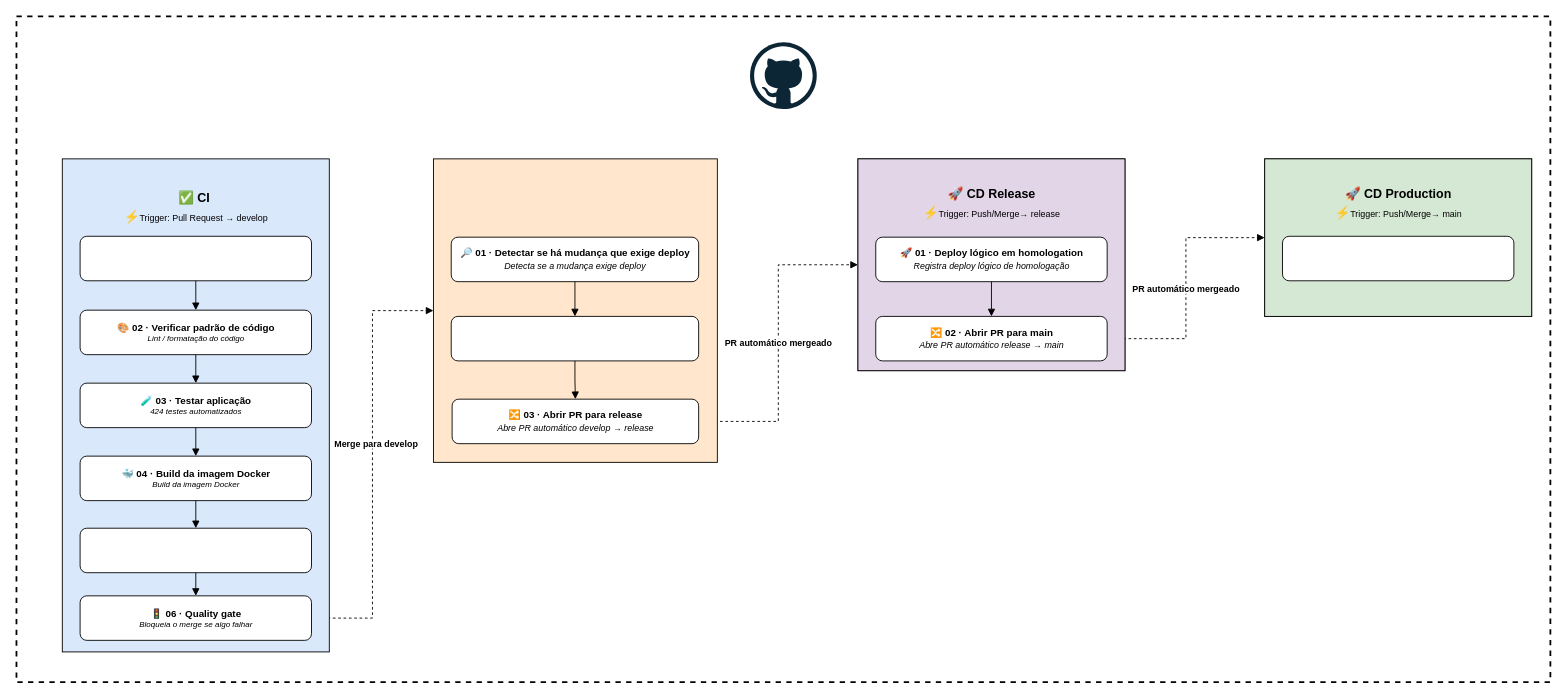
Image size: 1566x698. Some labels were removed from this diagram. The box of each missing label's shape, as (x1, y1, x2, y2) in pixels:
Esteiras de CI/CD via Github Actions: (749, 41, 817, 109)
☁️ 02 · Deploy em development terraform apply/destroy + push ECR + rollout EKS: (450, 316, 699, 361)
☸️ 05 · Validar manifests Kubernetes Valida os manifests Kubernetes: (79, 527, 312, 573)
🏗️ 01 · Build da aplicação Build da aplicação .NET: (79, 235, 312, 281)
🚀 01 · Deploy lógico em production Registra deploy lógico final de produção: (1282, 235, 1514, 281)
🚀 CD Development ⚡ Trigger : Push/Merge→ develop: (433, 158, 717, 462)
